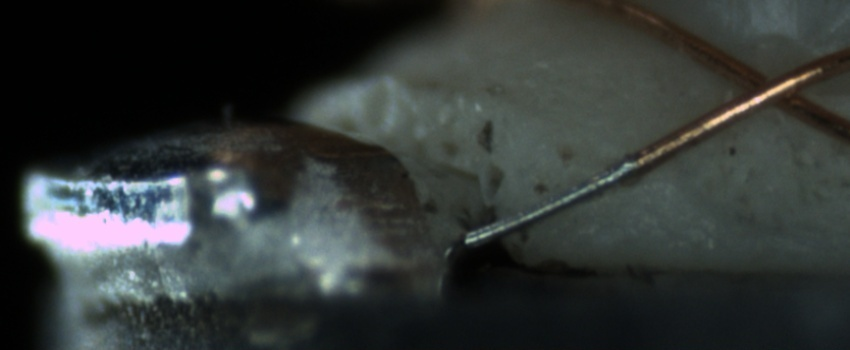CL: (714, 51, 827, 121)
TS: (456, 155, 641, 250)
